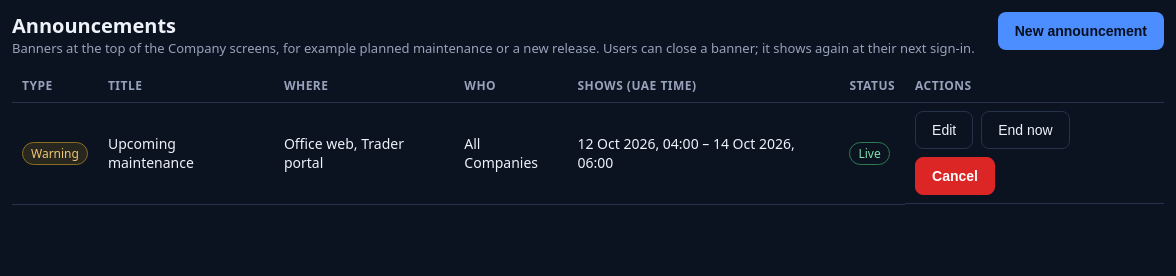
Test: Announcements page › asks before ending an announcement now
This screenshot has width=1176, height=276.
Click the button with aria-label "End Upcoming maintenance now": (1025, 130) [981, 111, 1070, 149]
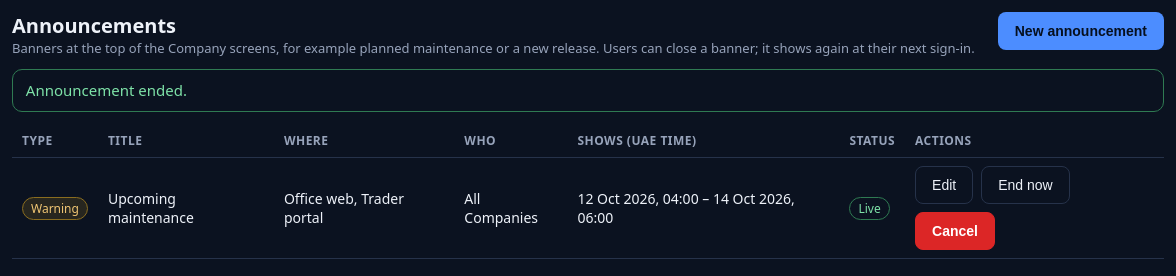
Expected: the text "Announcement ended." is shown, [12, 69, 1164, 112]
